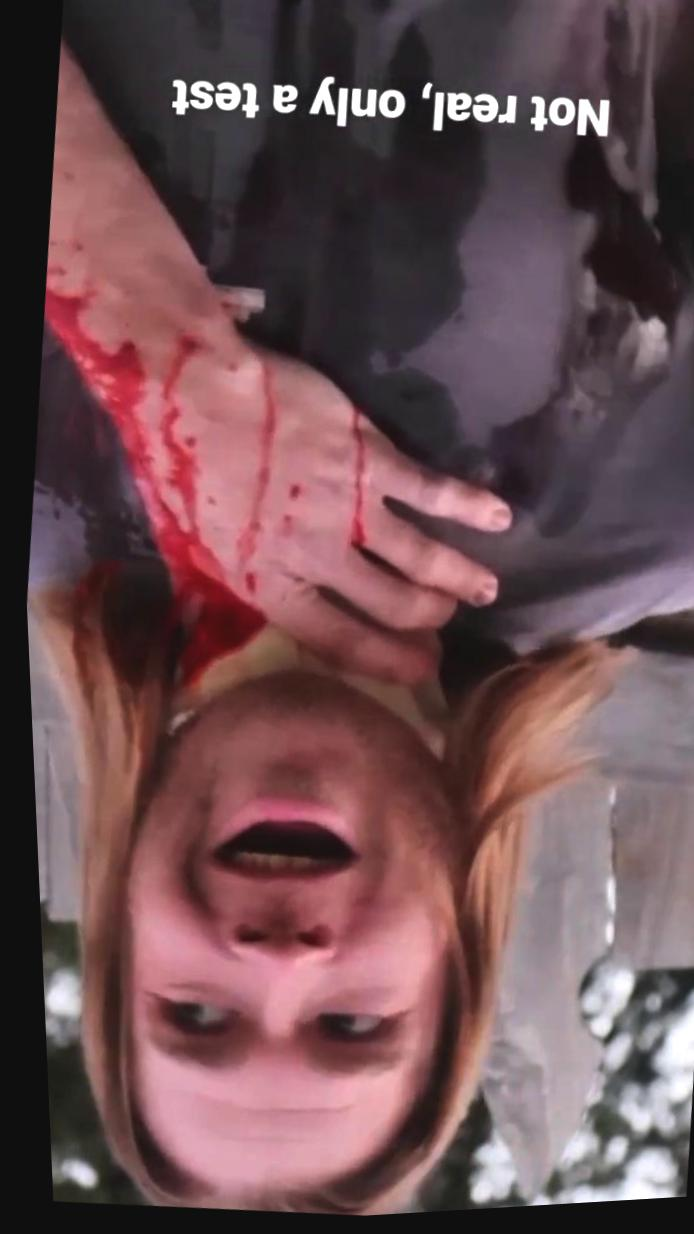Fire: (21, 320, 152, 591), (221, 347, 345, 624), (41, 281, 200, 475), (149, 518, 260, 687), (111, 408, 193, 535), (345, 409, 363, 552)
